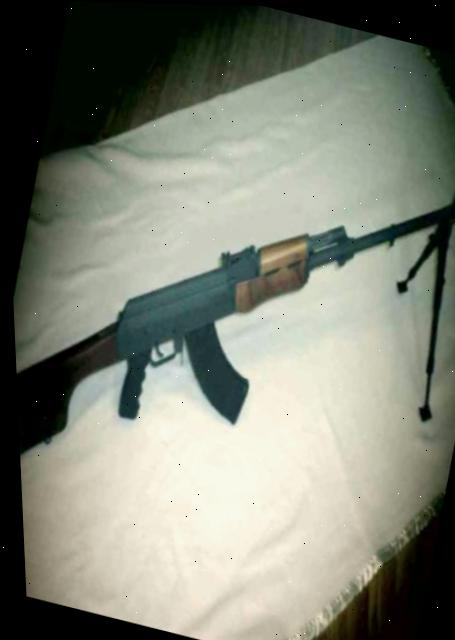rifle: (3, 76, 455, 559)
